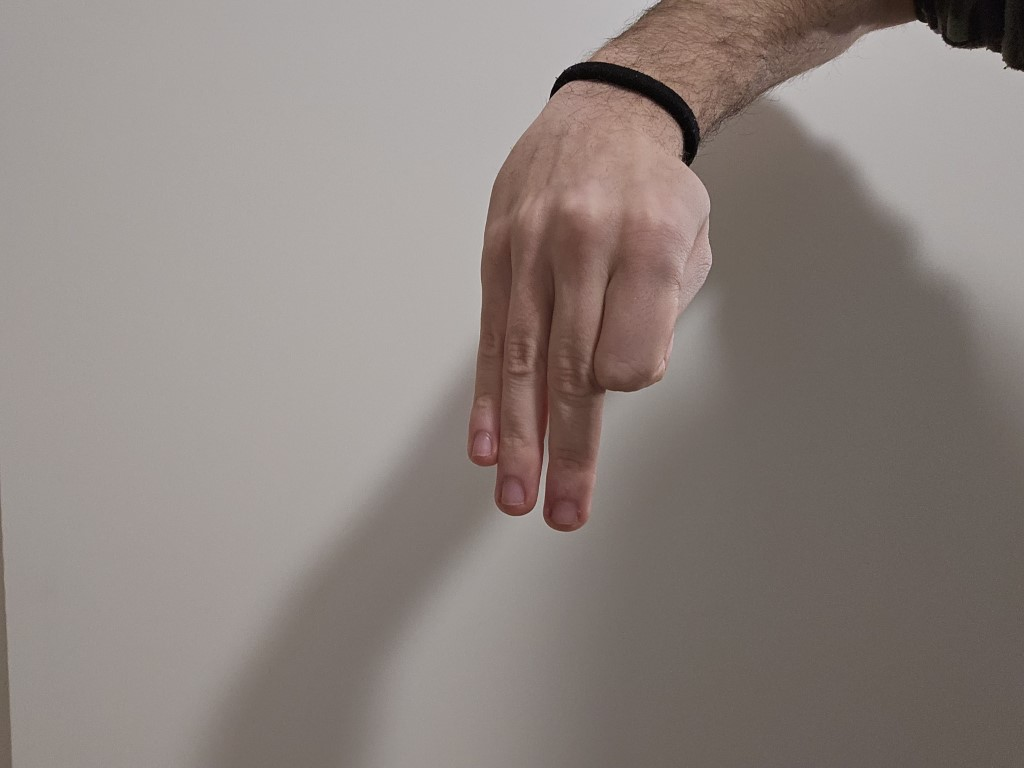m: (430, 86, 734, 559)
